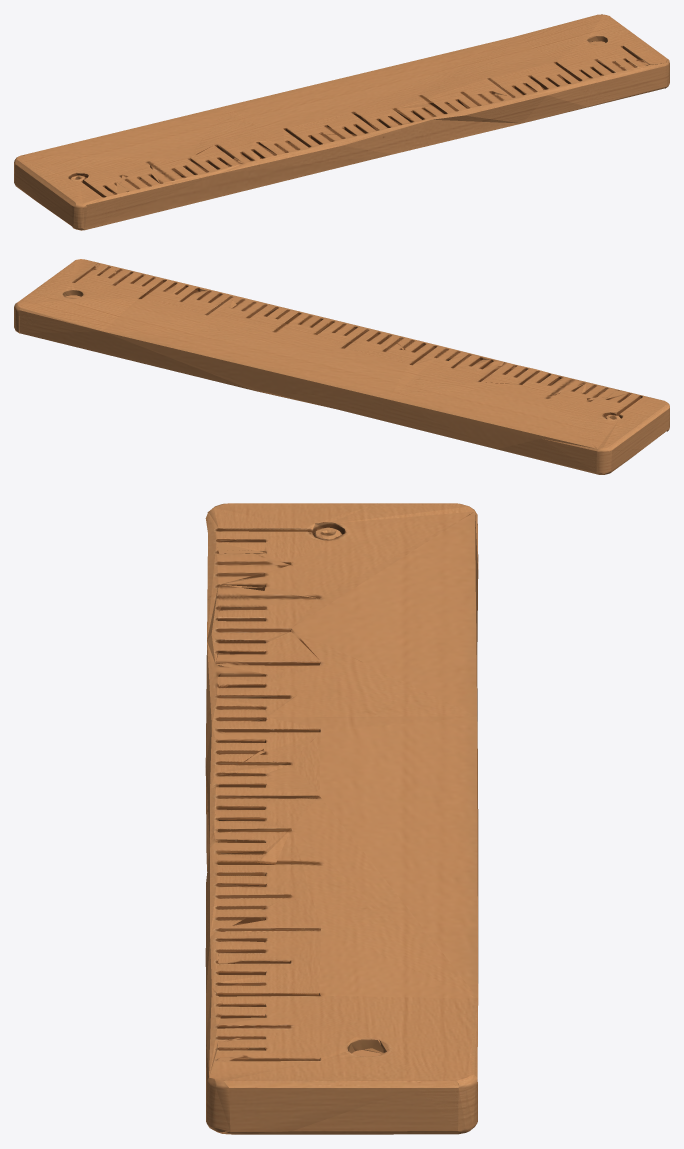
The model's file is ruler.glb.
3 views of the same model, one above another, from view 1: azimuth 30°, elevation 25°; view 2: azimuth 150°, elevation 25°; view 3: azimuth 270°, elevation 25° (orthographic). The views are drawn at different scales.
Visible parts, largest first — view 1: output_unwrapped; view 2: output_unwrapped; view 3: output_unwrapped.
Part boxes in pixels (x1=…): output_unwrapped: x1=14, y1=14, x2=669, y2=230; output_unwrapped: x1=14, y1=259, x2=669, y2=474; output_unwrapped: x1=205, y1=503, x2=478, y2=1134.
Bounding box in the file's own units: 1.9 × 0.0829 × 0.3762.
Materials: 1 (1 with a texture image).
